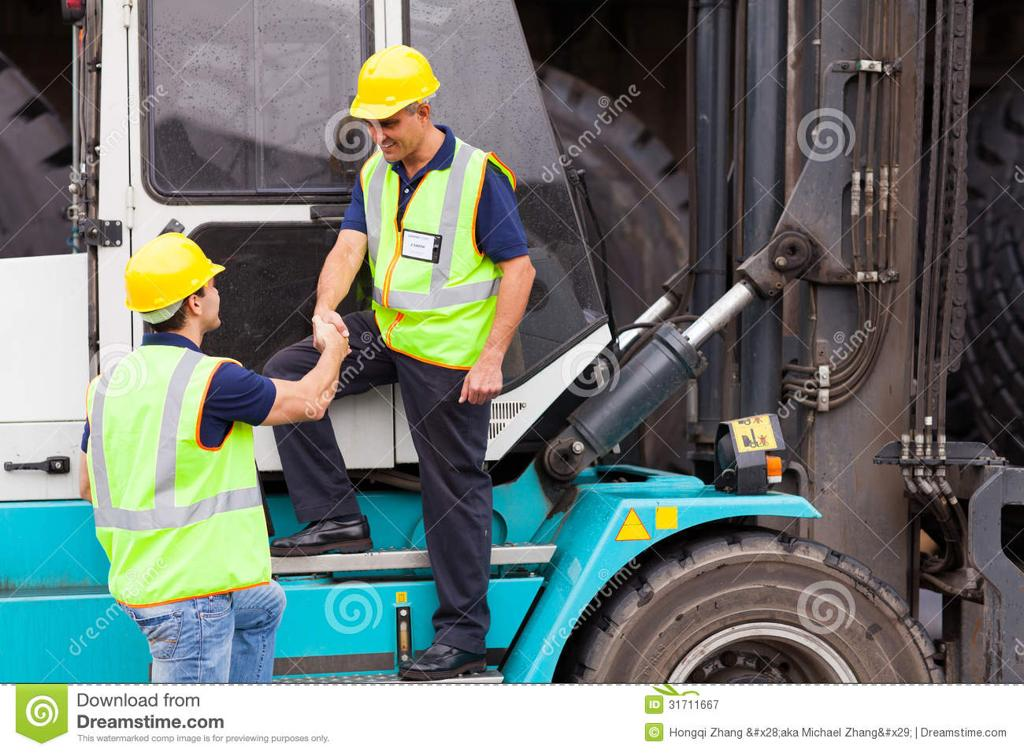face: (368, 106, 418, 162), (191, 271, 220, 329)
